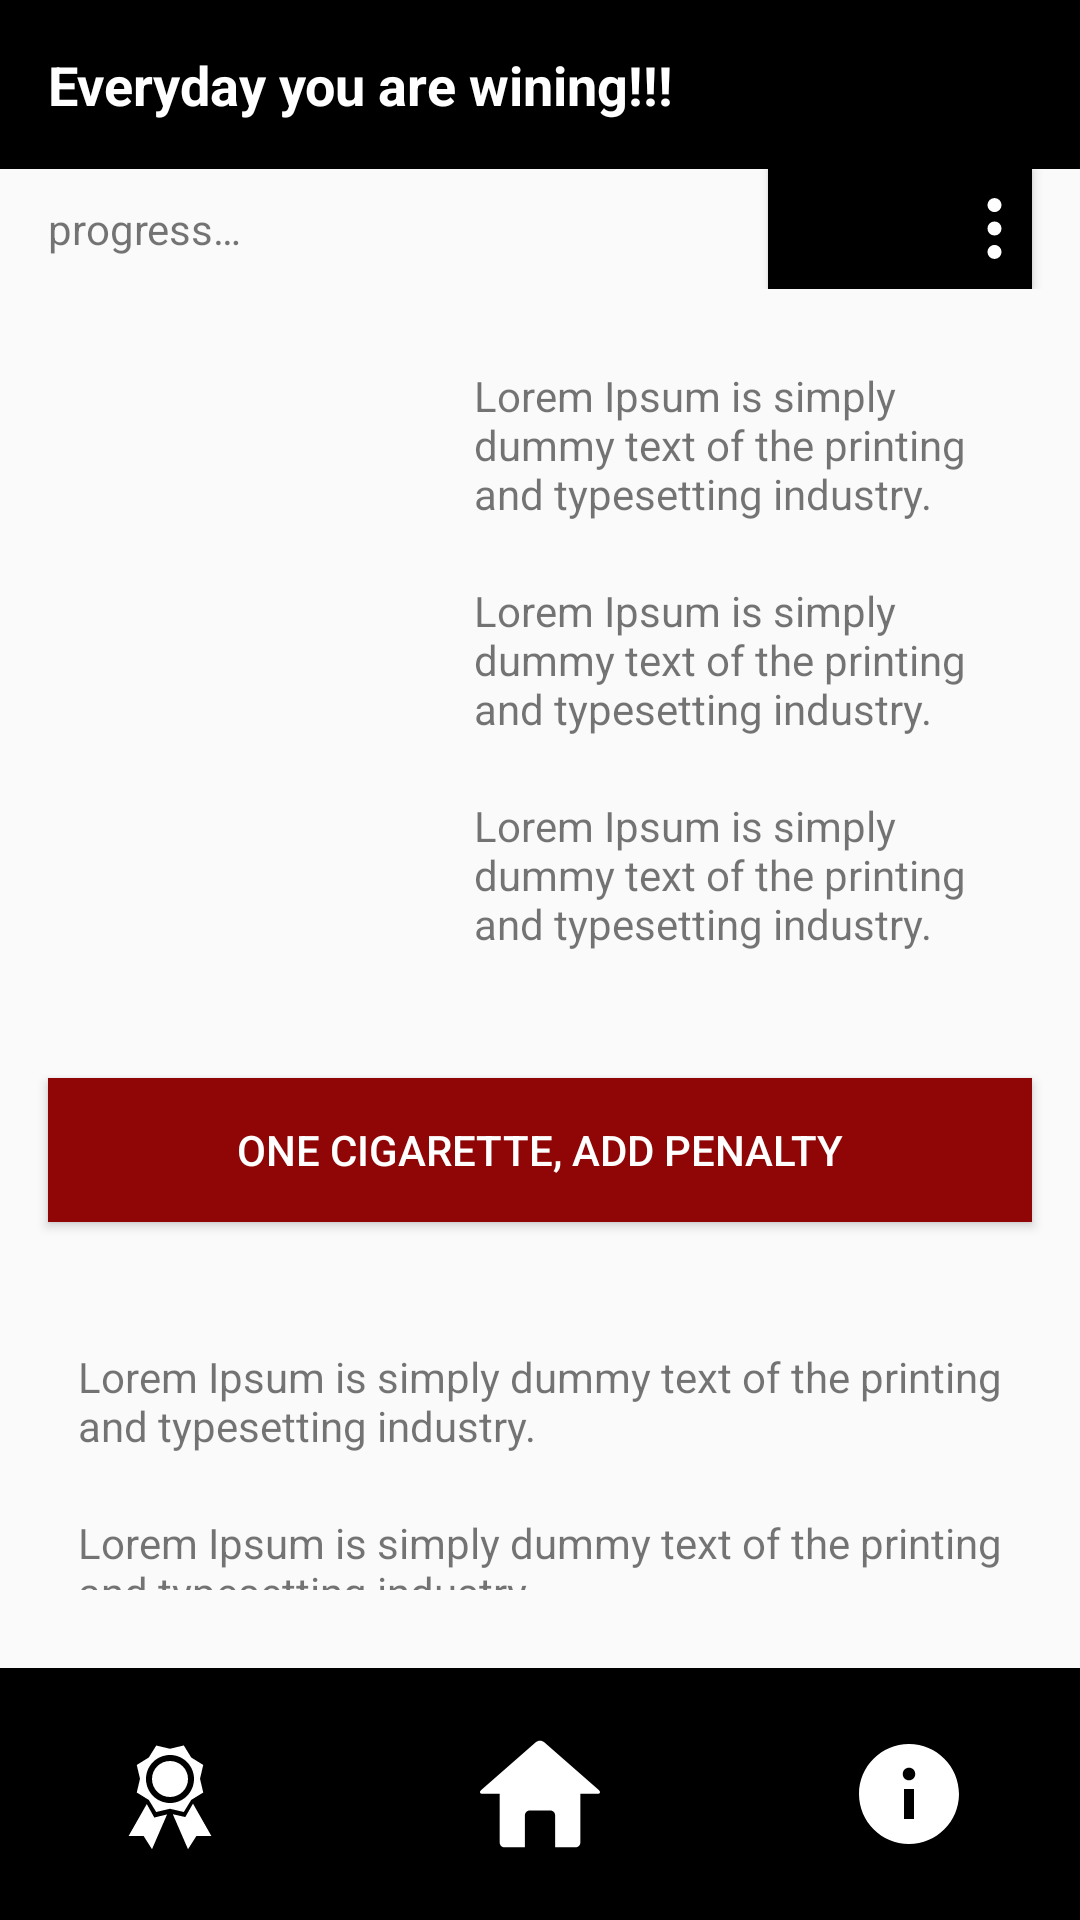

Icon bounding boxes for this 1080 × 1920 phone screenshot, format (x1, y1, x2, y2):
About: (859, 1744, 959, 1844)
Badge: (128, 1745, 212, 1849)
Home: (480, 1740, 600, 1848)
